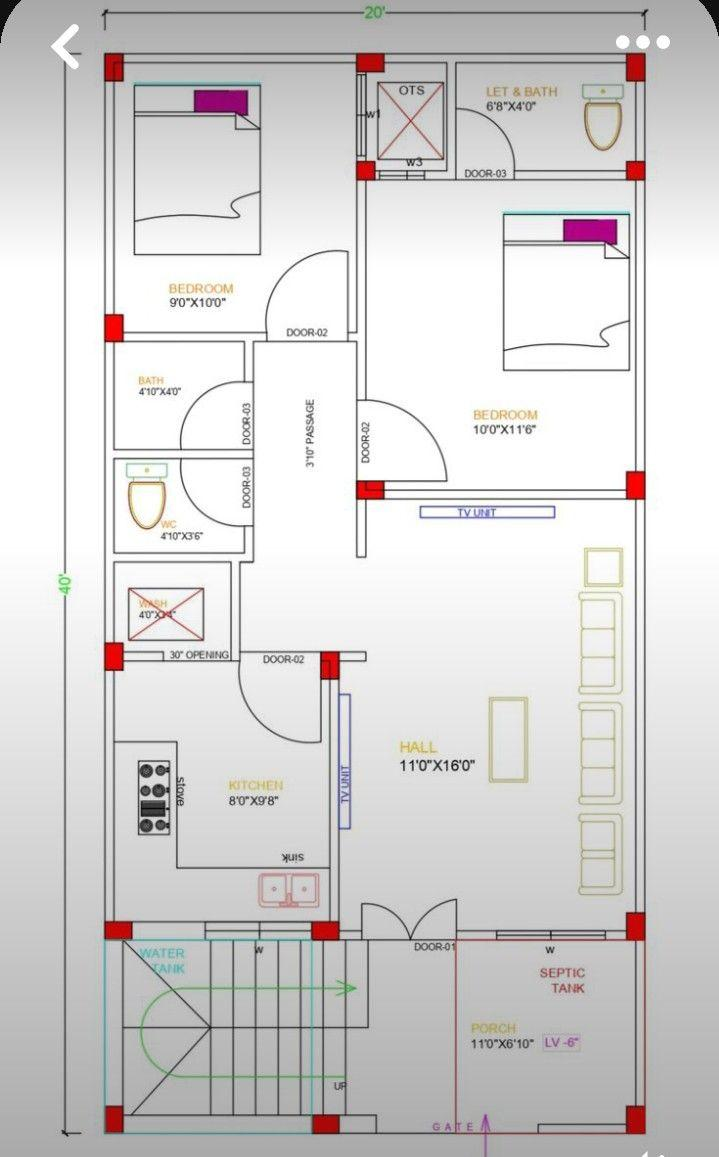Blueprint: (93, 40, 660, 1148)
wall: (632, 495, 649, 917), (118, 1110, 317, 1138), (100, 338, 118, 646), (632, 175, 649, 476), (323, 674, 343, 925), (101, 667, 119, 928), (119, 49, 359, 68), (352, 177, 372, 403), (380, 485, 628, 503), (101, 935, 126, 1109), (100, 75, 117, 318), (381, 49, 630, 65), (632, 936, 648, 1110), (100, 446, 257, 462), (102, 549, 257, 565), (118, 329, 271, 345), (443, 48, 459, 183), (510, 166, 628, 184), (226, 551, 244, 664), (127, 918, 208, 943), (535, 1120, 630, 1138), (632, 76, 648, 166), (336, 1111, 379, 1138), (352, 496, 369, 560), (242, 329, 256, 385), (118, 649, 166, 665), (454, 928, 500, 943), (241, 522, 257, 565), (334, 648, 369, 666), (421, 167, 460, 183), (335, 927, 366, 943), (601, 927, 630, 943)
